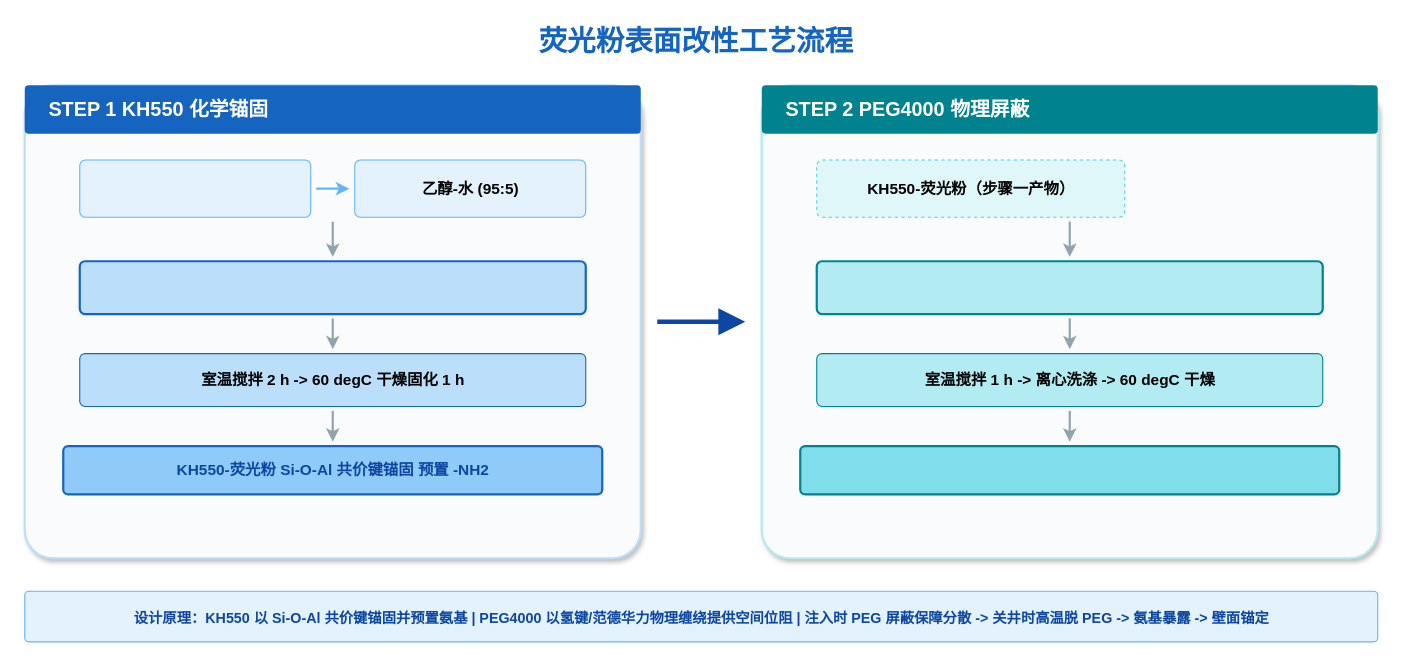
Some shapes in this 1404 by 661 pixel diagram are drawn without their labels. Each missing label, with the centre of its shape:
"加入 KH550 (2.0 wt%) 乙酸调 pH 4.5" goes at (x=332, y=287).
"加入 PEG4000 (3.0 wt%) Mn = 4000" goes at (x=1069, y=287).
"改性荧光粉 KH550 内层 - PEG 外层 双层包覆" goes at (x=1069, y=469).
"荧光粉 SrAl 2 O 4 :Eu 2+ ,Dy 3+" goes at (x=195, y=188).
